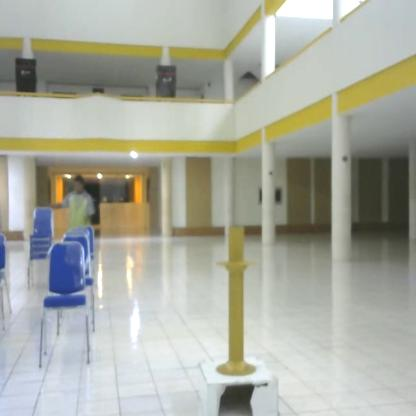pole: (208, 214, 271, 381)
